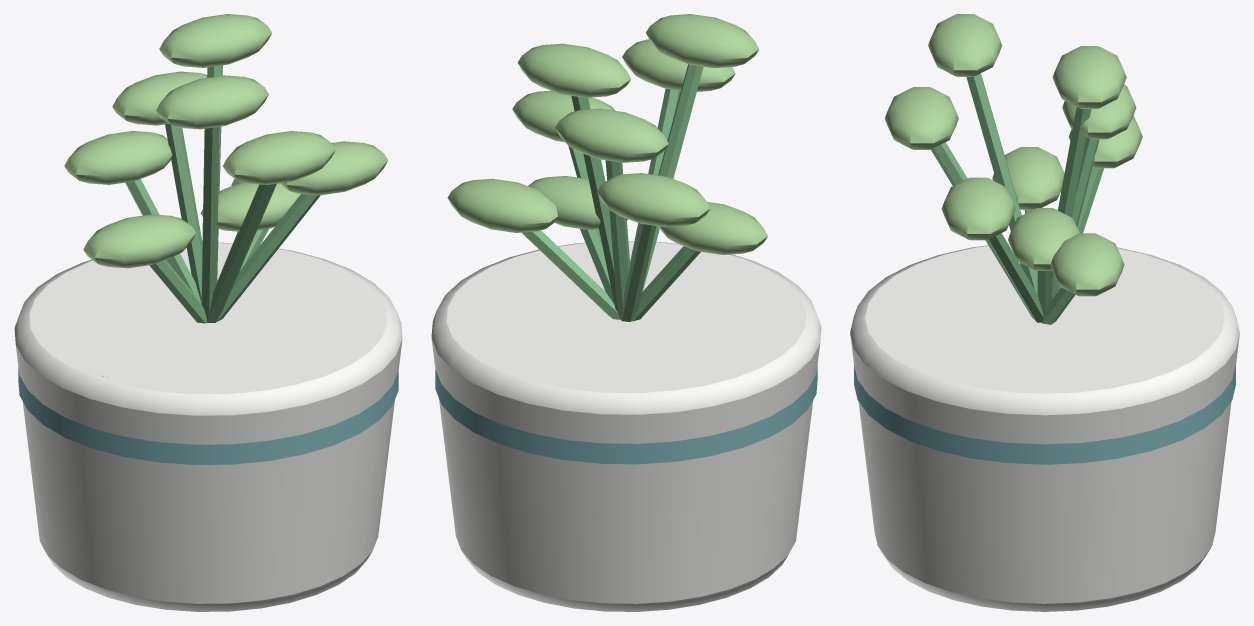
Rendered from herb_pot.glb.
3 views of the same model, side by side, from view 1: azimuth 30°, elevation 25°; view 2: azimuth 150°, elevation 25°; view 3: azimuth 270°, elevation 25° (orthographic).
Parts seen in each view (by area): view 1: pot_white_painted, leaves_leaf_light, stems_leaf_green, pot_band_teal; view 2: pot_white_painted, leaves_leaf_light, stems_leaf_green, pot_band_teal; view 3: pot_white_painted, leaves_leaf_light, stems_leaf_green, pot_band_teal.
Boxes of the visible parts, x1=… form: pot_white_painted: x1=14, y1=242, x2=402, y2=611; leaves_leaf_light: x1=64, y1=14, x2=387, y2=268; stems_leaf_green: x1=125, y1=65, x2=320, y2=323; pot_band_teal: x1=18, y1=367, x2=398, y2=464; pot_white_painted: x1=431, y1=241, x2=821, y2=611; leaves_leaf_light: x1=447, y1=14, x2=767, y2=254; stems_leaf_green: x1=521, y1=64, x2=703, y2=321; pot_band_teal: x1=435, y1=366, x2=817, y2=464; pot_white_painted: x1=850, y1=243, x2=1239, y2=611; leaves_leaf_light: x1=884, y1=14, x2=1142, y2=296; stems_leaf_green: x1=931, y1=73, x2=1103, y2=324; pot_band_teal: x1=854, y1=365, x2=1235, y2=464.
Bounding box in the file's own units: 0.1387 × 0.1977 × 0.1387.
